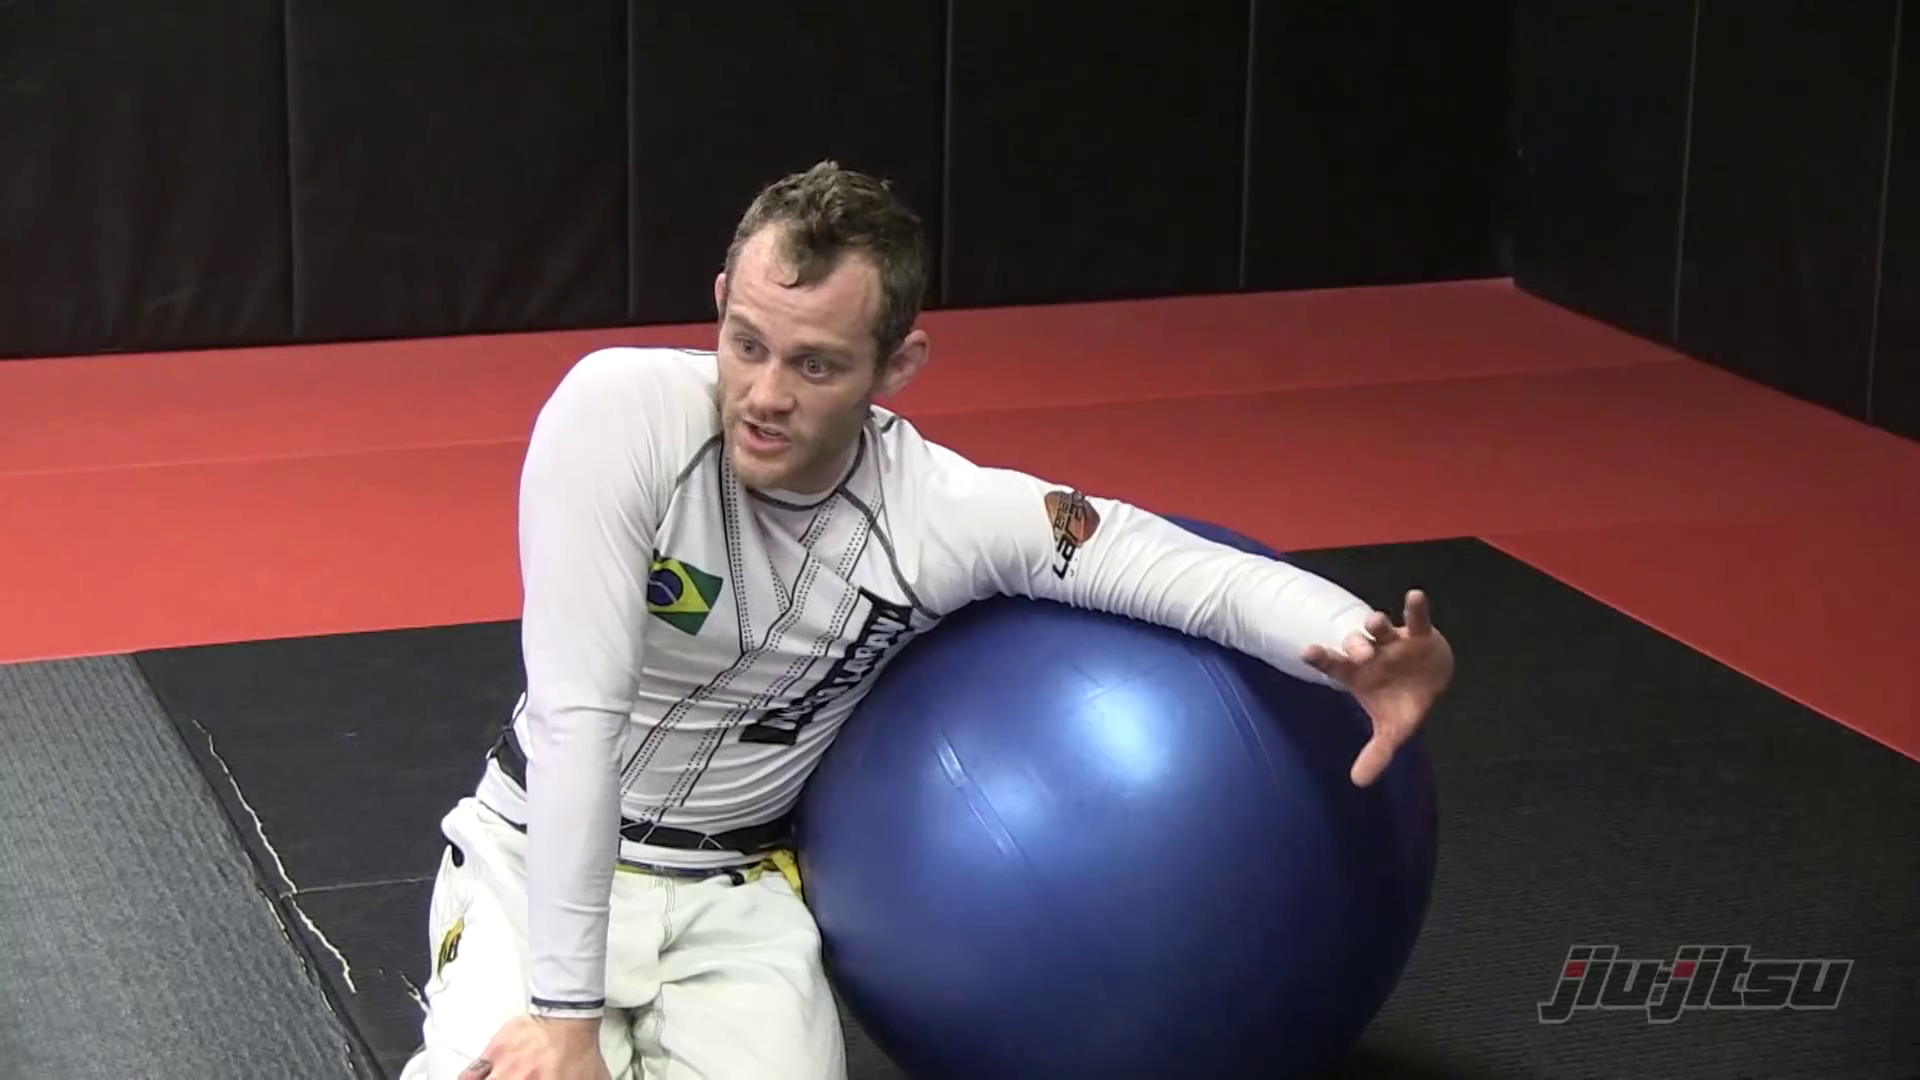yogaball: (787, 574, 1461, 1080)
